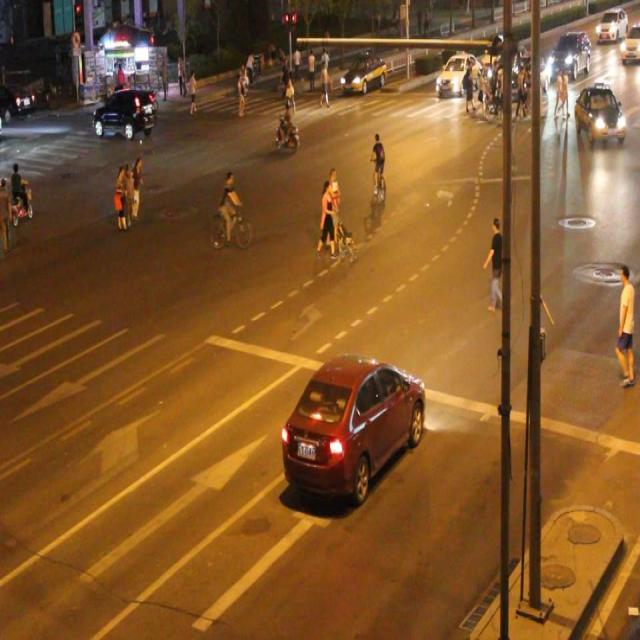car: (280, 354, 426, 497), (572, 83, 625, 146), (93, 89, 157, 140)
